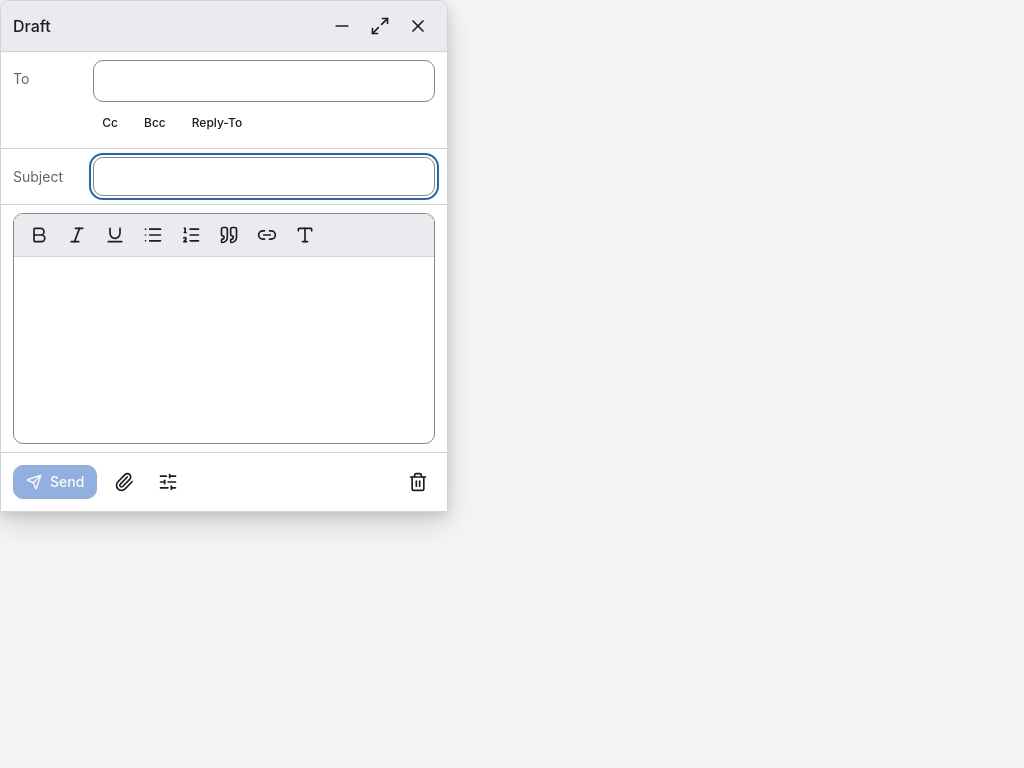
Test: ComposerWindow — attach from Files (D-5) › offers a source menu only where the account HAS a file store
The image size is (1024, 768).
Click the button named "Attach file" at (124, 482), box [105, 465, 143, 499]
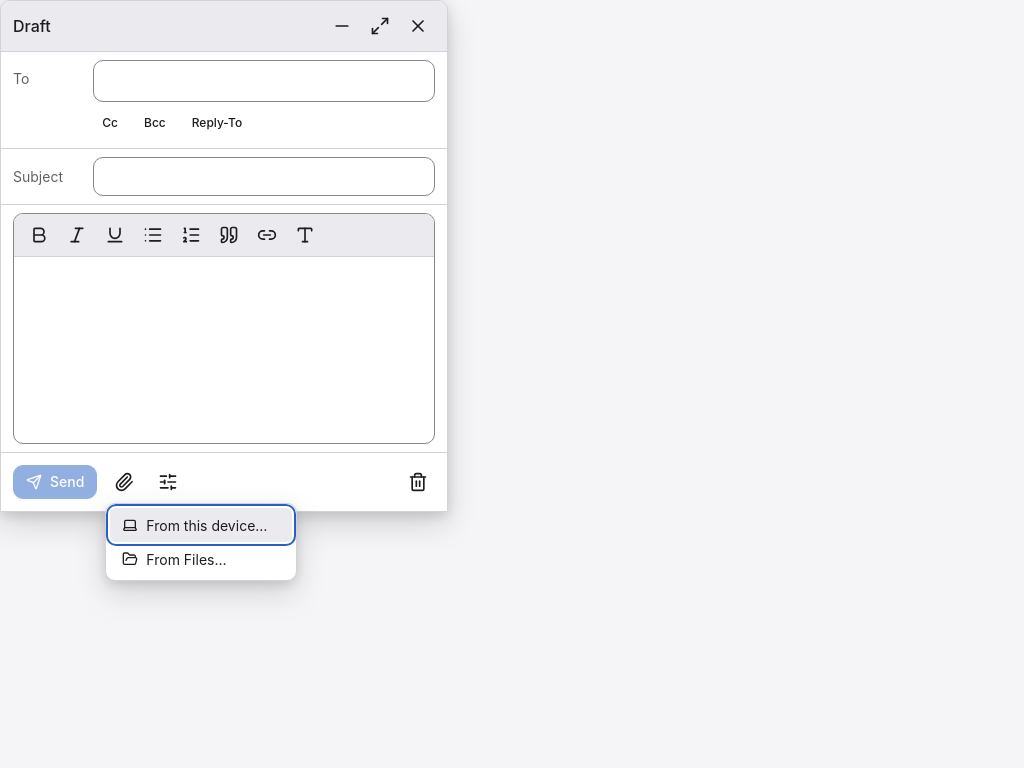
Result: the menu item "From Files…" is shown at [110, 542, 292, 576]
Result: the menu item "From this device…" is shown at [110, 508, 292, 542]
